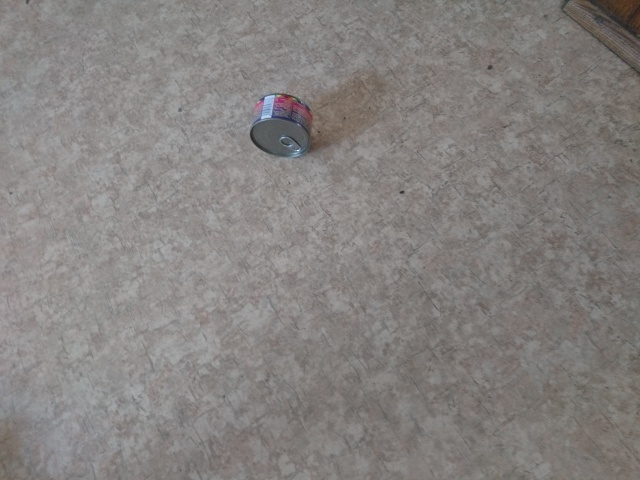Giana Tuna Salad Mexico 185g: (247, 90, 315, 160)
